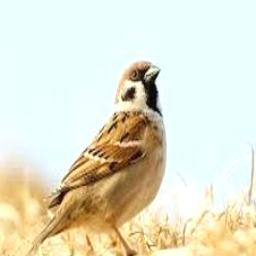Sparrow: (25, 62, 165, 256)
